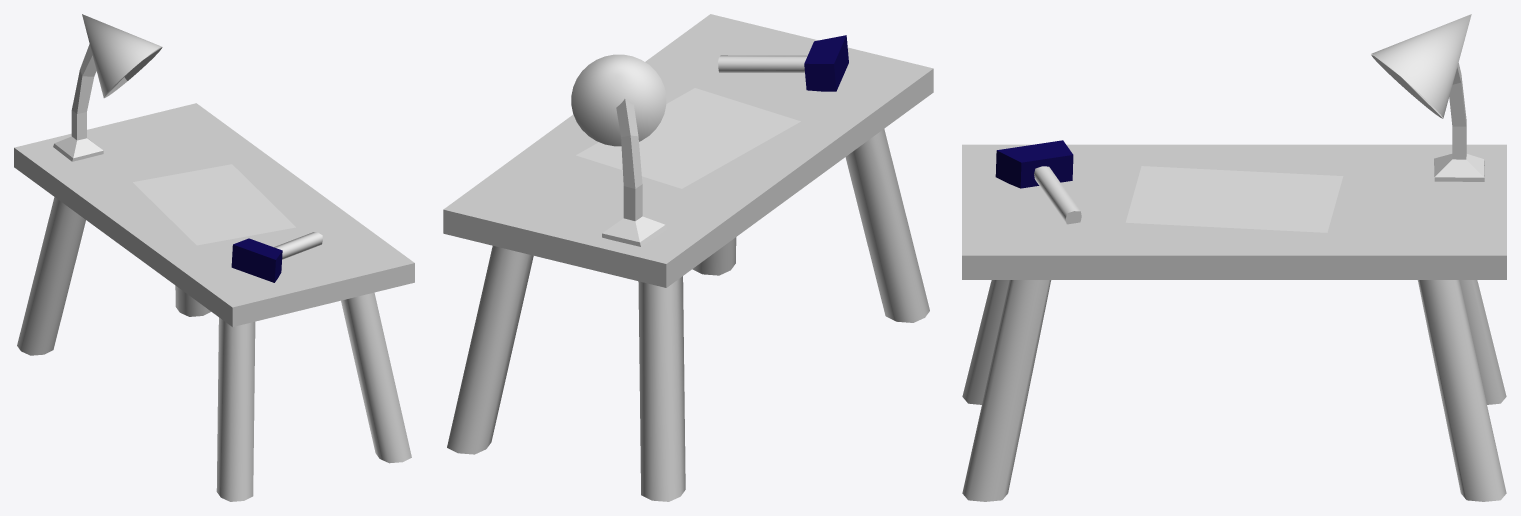
The model's file is Workbench.fbx.
The picture shows the model from 3 angles, left to right: view 1: azimuth 30°, elevation 25°; view 2: azimuth 150°, elevation 25°; view 3: azimuth 270°, elevation 25°; orthographic projection. The views are drawn at different scales.
Parts seen in each view (by area): view 1: Cube, Cube.001, Плоскость, Конус, Куб, Куб.001, Куб.002; view 2: Cube, Cube.001, Плоскость, Конус, Куб, Куб.001, Куб.002; view 3: Cube, Cube.001, Плоскость, Конус, Куб.001, Куб, Куб.002.
Part boxes in pixels (left/top/right/bottom): Cube: left=14, top=103, right=414, bottom=326; Cube.001: left=17, top=197, right=411, bottom=501; Плоскость: left=133, top=164, right=295, bottom=245; Конус: left=82, top=14, right=162, bottom=98; Куб: left=53, top=44, right=103, bottom=161; Куб.001: left=231, top=238, right=282, bottom=282; Куб.002: left=274, top=232, right=322, bottom=259; Cube: left=443, top=14, right=933, bottom=287; Cube.001: left=447, top=129, right=929, bottom=501; Плоскость: left=576, top=88, right=800, bottom=188; Конус: left=571, top=54, right=666, bottom=146; Куб: left=602, top=98, right=666, bottom=246; Куб.001: left=804, top=35, right=848, bottom=91; Куб.002: left=718, top=55, right=807, bottom=72; Cube: left=962, top=144, right=1506, bottom=279; Cube.001: left=962, top=280, right=1506, bottom=501; Плоскость: left=1126, top=166, right=1343, bottom=232; Конус: left=1371, top=14, right=1471, bottom=118; Куб.001: left=995, top=140, right=1073, bottom=188; Куб: left=1434, top=63, right=1484, bottom=181; Куб.002: left=1034, top=166, right=1081, bottom=224.
Size of the model in its own units: 553 by 926 by 1120.
